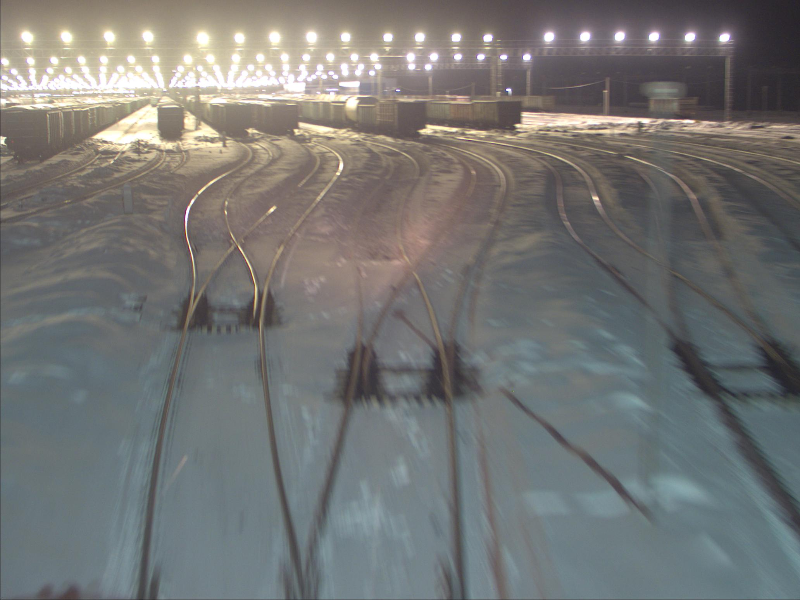left: (352, 335, 459, 404)
right: (186, 275, 271, 330)
